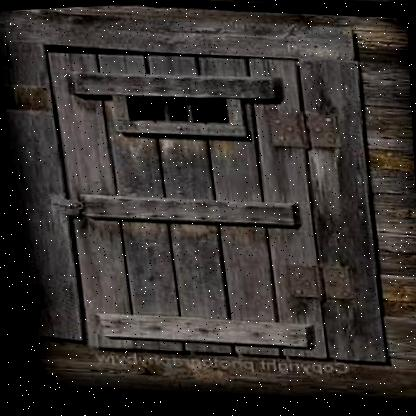door: (6, 10, 379, 378)
